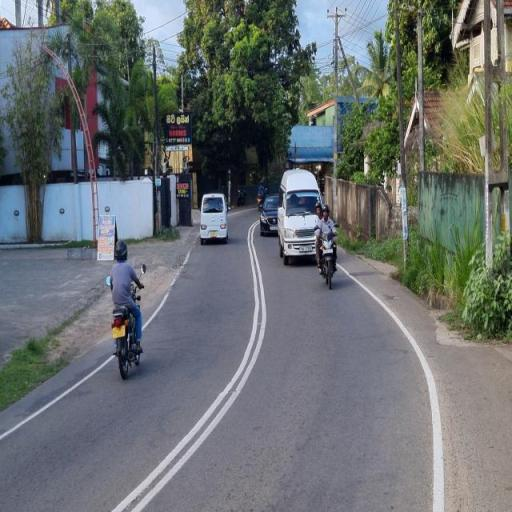double_white_line: (109, 218, 269, 510), (0, 352, 114, 441)
